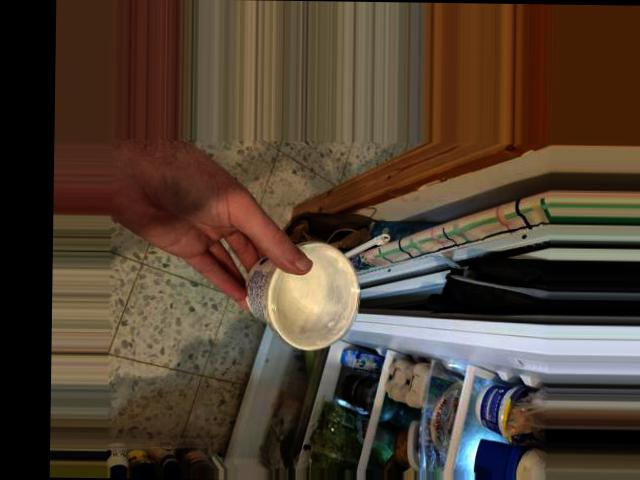cotage: (238, 232, 359, 332)
